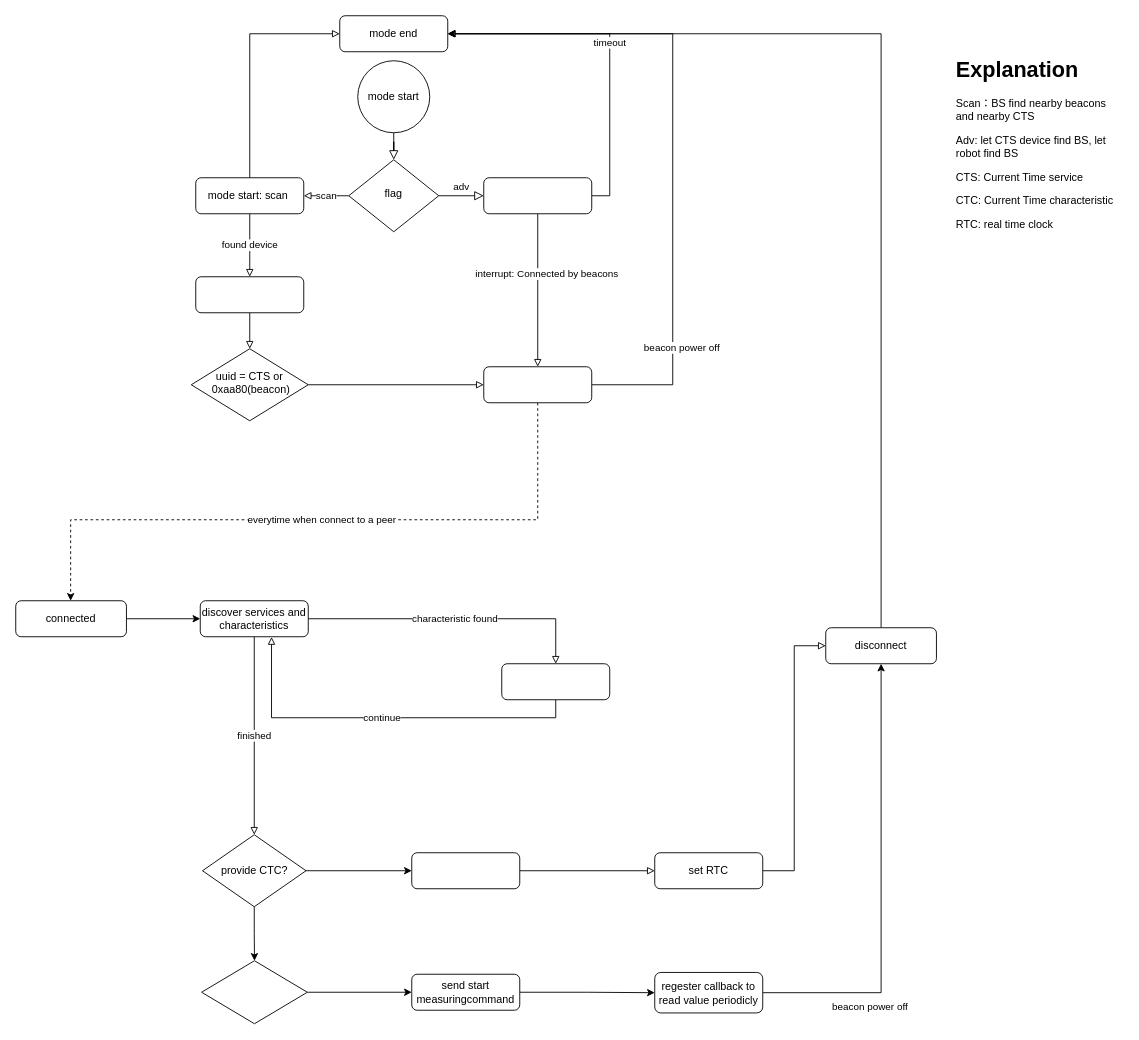
Image size: 1139x1040. Some labels were removed from this diagram. Here are the shapes that lost their labels. From the top down, the centre of each, then its label:
At (x=537, y=195): "mode start: advertise".
At (x=249, y=294): "read advertise report".
At (x=537, y=384): "mode start: connect".
At (x=555, y=681): "get handles from callbacks and store them in memory".
At (x=465, y=870): "use handle to read CTC attribbutes".
At (x=254, y=992): "is beacon?".
